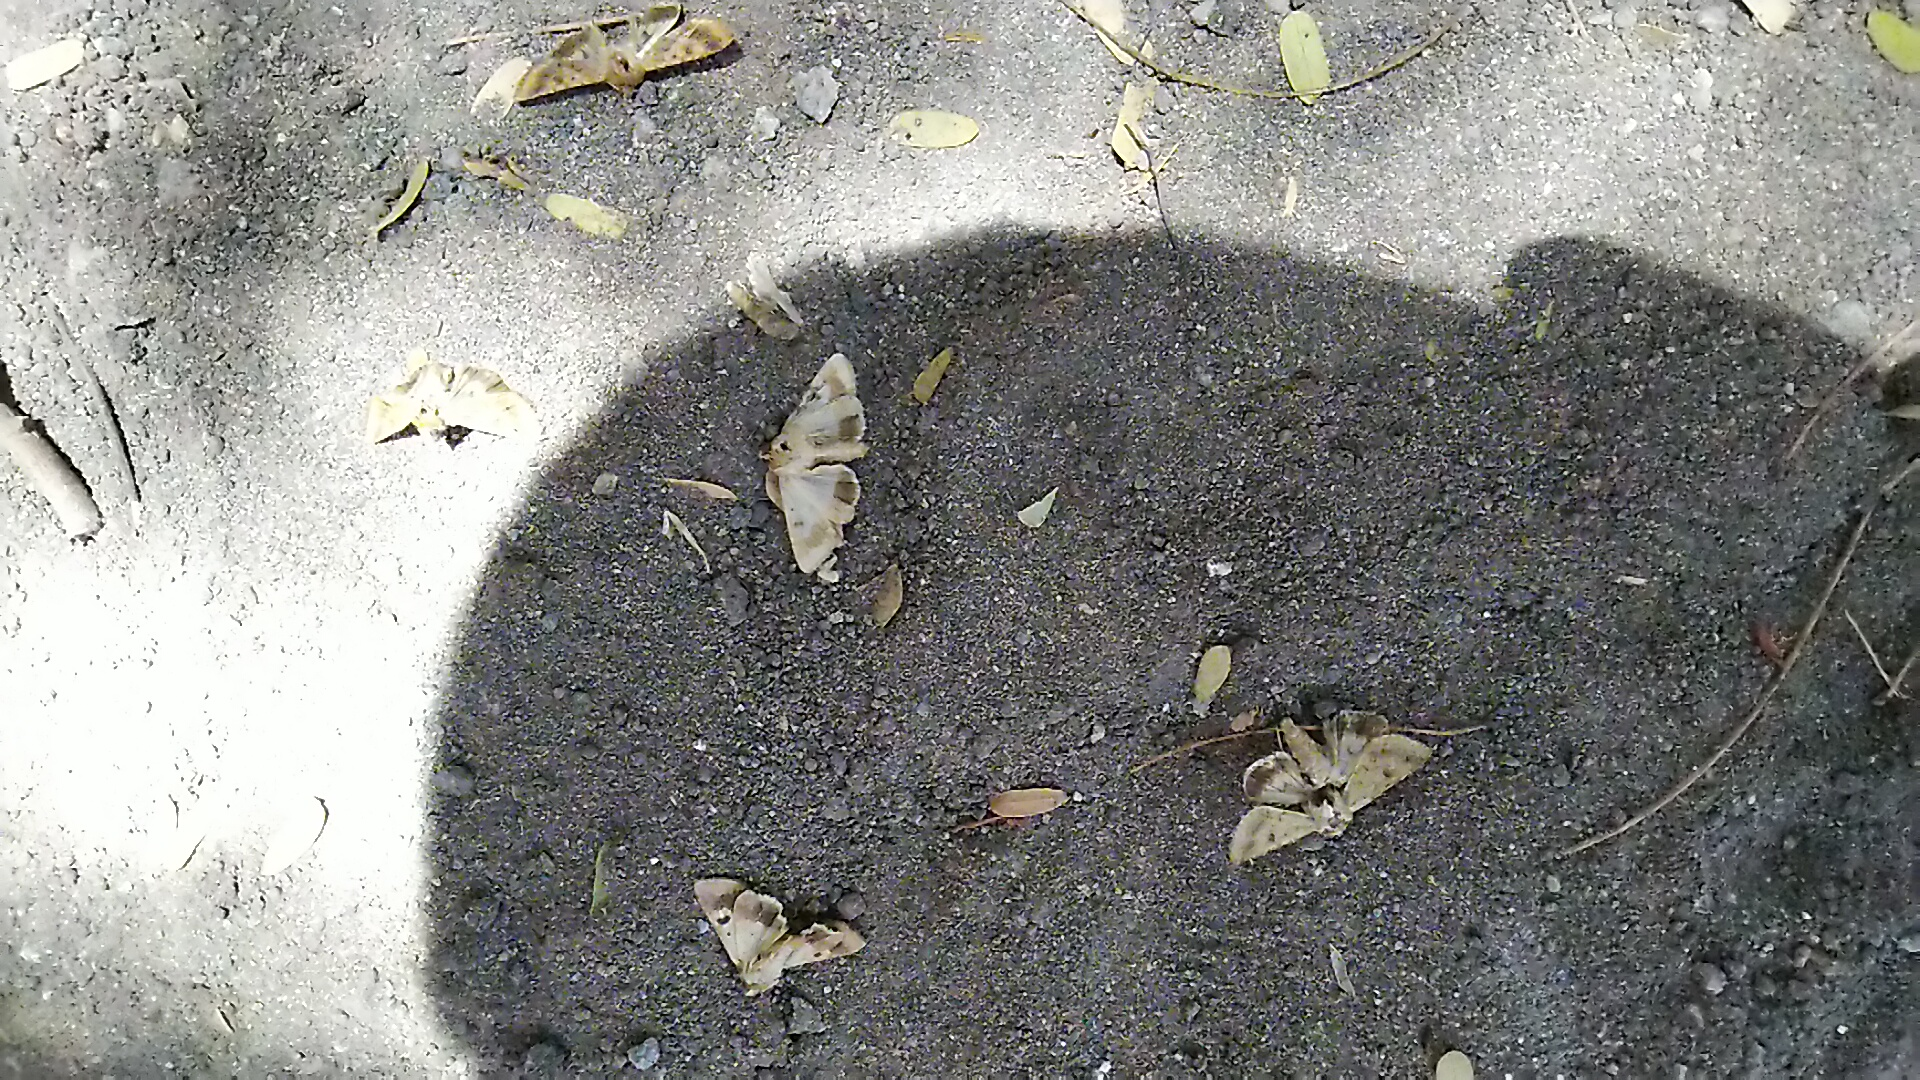INS-C: (1224, 709, 1431, 882), (762, 328, 874, 580), (498, 1, 748, 113), (363, 342, 558, 463), (684, 865, 874, 986)
